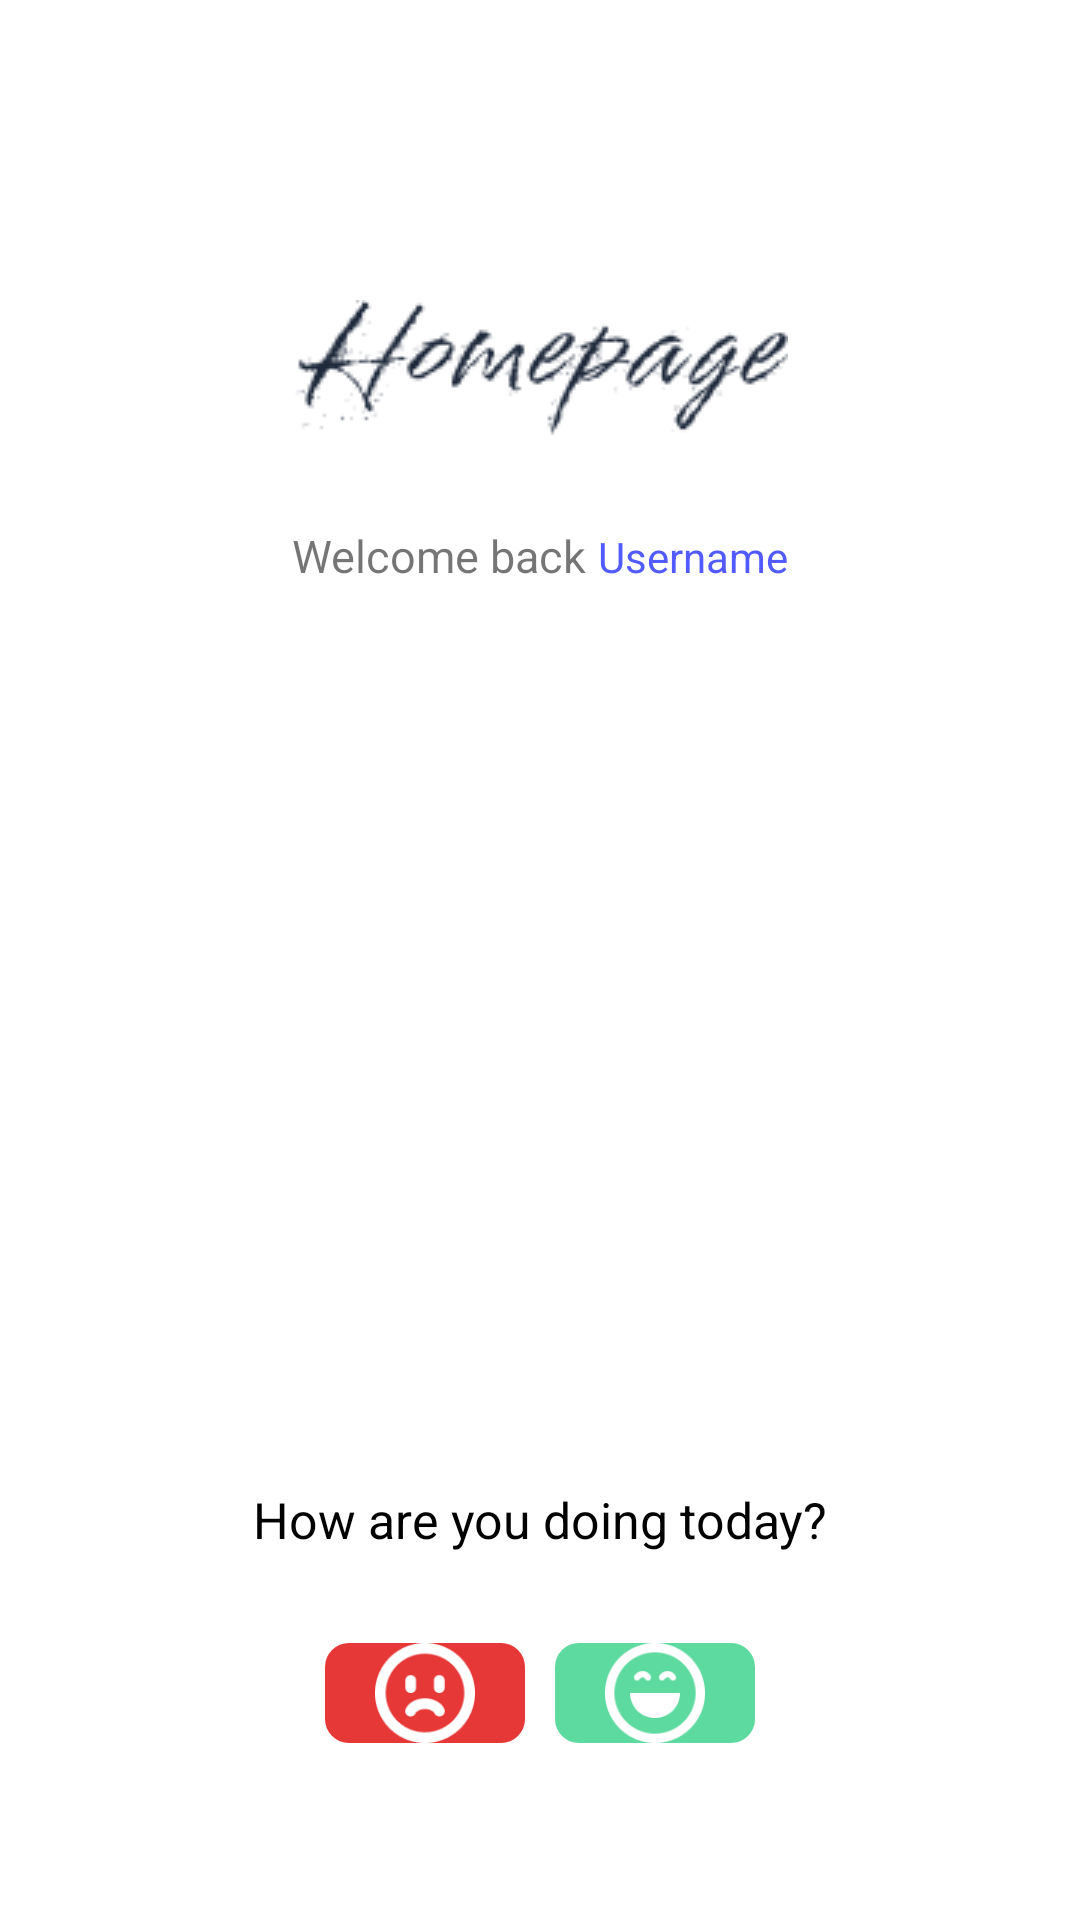

Where to tap for icons on this 1080x1920 app screen, as (x=x, y=y):
pajamas sad: (x=425, y=1693)
pajamas smile: (x=655, y=1693)
